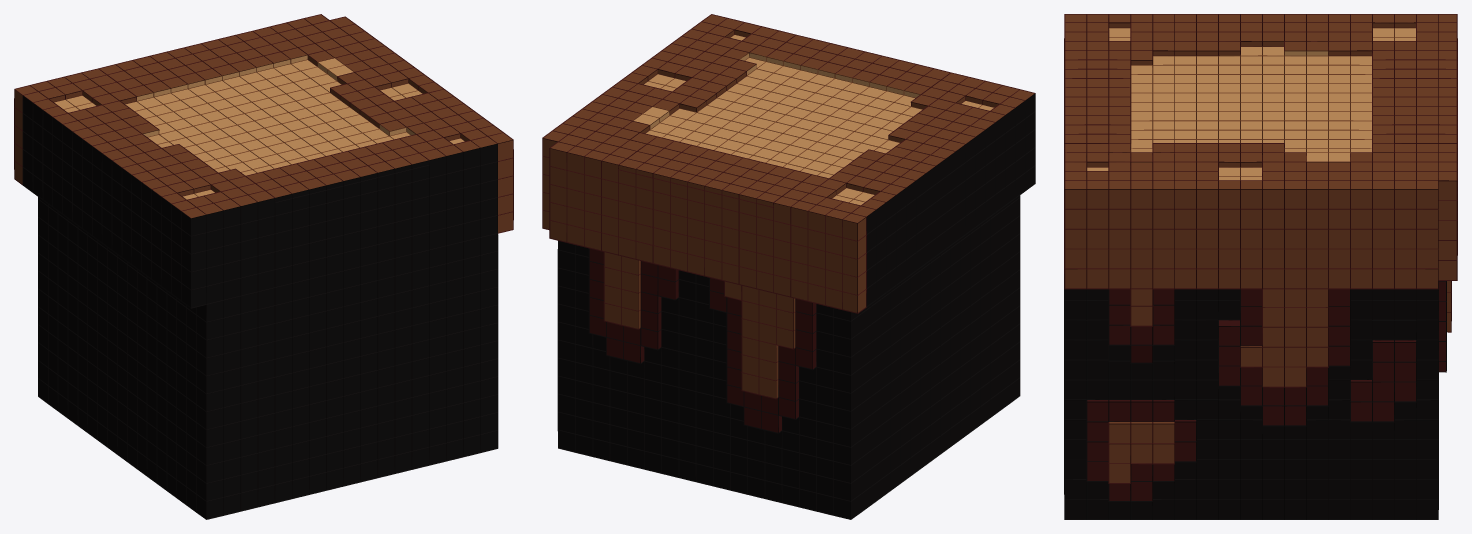
The picture shows the model from 3 angles, left to right: view 1: azimuth 30°, elevation 25°; view 2: azimuth 150°, elevation 25°; view 3: azimuth 270°, elevation 25°; orthographic projection. The views are drawn at different scales.
Visible parts, largest first — view 1: stay_light; view 2: stay_light; view 3: stay_light.
Boxes of the visible parts, x1,y1,x2,y2 form: stay_light: [14, 14, 513, 519]; stay_light: [542, 14, 1035, 519]; stay_light: [1064, 14, 1457, 519].
Size of the model in its own units: 2.22 by 2.01 by 2.11.
